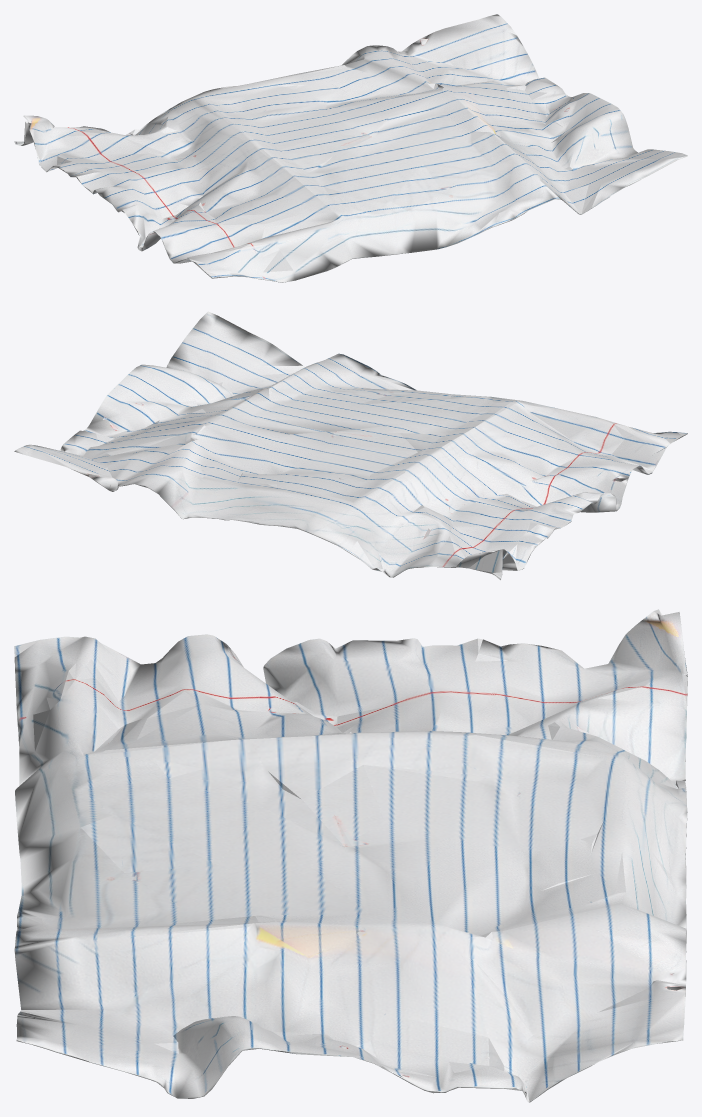
The model's file is TestPaper.fbx.
3 renders of one model, top to bottom at view 1: azimuth 30°, elevation 25°; view 2: azimuth 150°, elevation 25°; view 3: azimuth 270°, elevation 25°, orthographic. The views are drawn at different scales.
Parts seen in each view (by area): view 1: Mesh_0; view 2: Mesh_0; view 3: Mesh_0.
Boxes of the visible parts, left/top/right/bottom form: Mesh_0: left=14, top=14, right=687, bottom=282; Mesh_0: left=14, top=311, right=687, bottom=580; Mesh_0: left=14, top=609, right=687, bottom=1102.
Size of the model in its own units: 192 by 19.9 by 133.
Materials: 1 (1 with a texture image).
